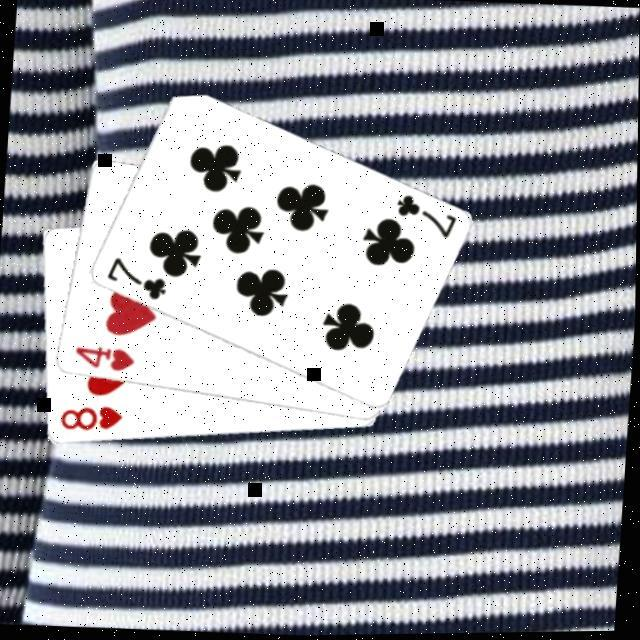4H: (69, 340, 137, 375)
7C: (388, 190, 459, 242), (101, 250, 170, 302)
8H: (54, 398, 126, 436)
